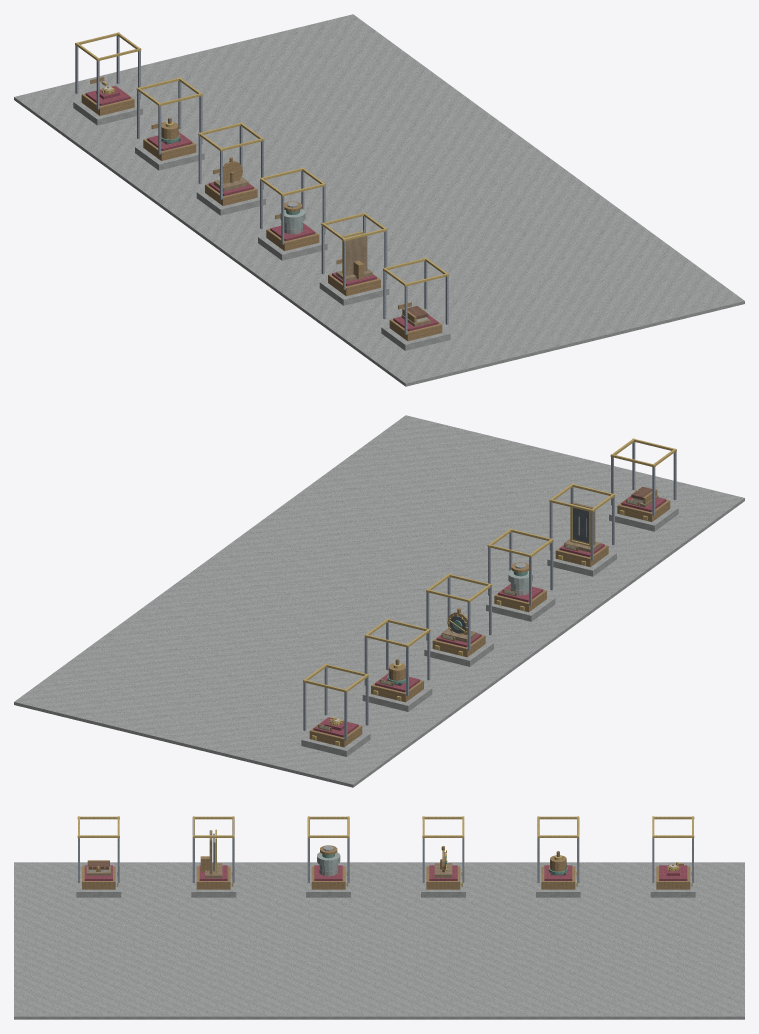
Rendered from west-vault-bank.glb.
3 views of the same model, one above another, from view 1: azimuth 30°, elevation 25°; view 2: azimuth 150°, elevation 25°; view 3: azimuth 270°, elevation 25° (orthographic). The views are drawn at different scales.
Visible parts, largest first — view 1: review_relic_vault_west; view 2: review_relic_vault_west; view 3: review_relic_vault_west.
Boxes of the visible parts, x1,y1,x2,y2 form: review_relic_vault_west: [14, 14, 744, 386]; review_relic_vault_west: [14, 415, 744, 787]; review_relic_vault_west: [14, 816, 744, 1019].
Bounding box in the file's own units: 14 × 2.71 × 28.
Materials: 12 (12 with a texture image).
